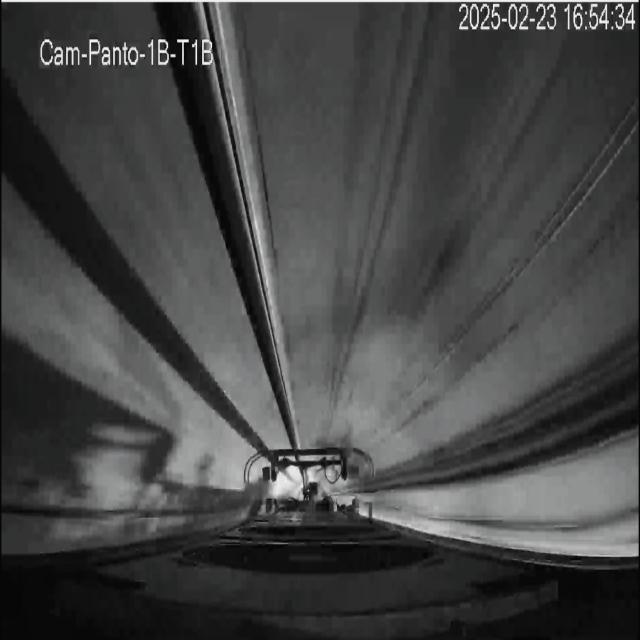Camera Stamp: (36, 30, 221, 71)
Date Stamp: (458, 3, 635, 33)
No - Spark: (303, 321, 444, 468), (244, 443, 370, 508)
